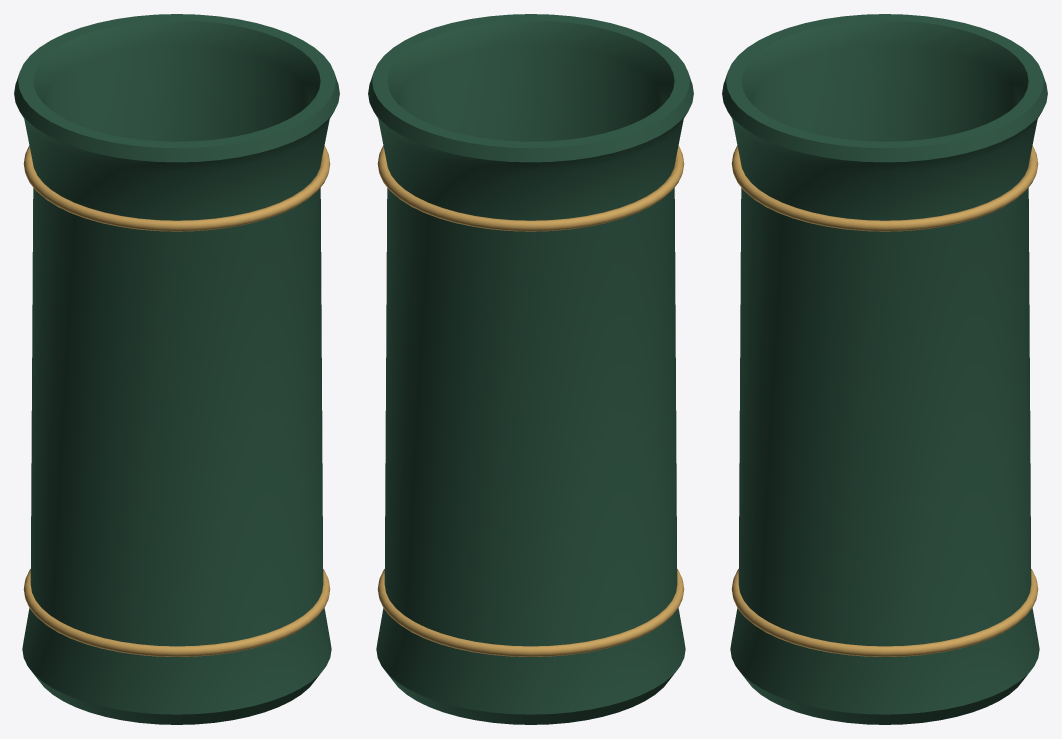
File: UmbrellaStand.fbx
3 views of the same model, side by side, from view 1: azimuth 30°, elevation 25°; view 2: azimuth 150°, elevation 25°; view 3: azimuth 270°, elevation 25° (orthographic).
Parts seen in each view (by area): view 1: UmbrellaStand; view 2: UmbrellaStand; view 3: UmbrellaStand.
Part boxes in pixels (x1,y1,x2,y2): UmbrellaStand: [14, 14, 339, 724]; UmbrellaStand: [368, 14, 693, 724]; UmbrellaStand: [722, 14, 1047, 724].
Bounding box in the file's own units: 0.236 × 0.466 × 0.236.
